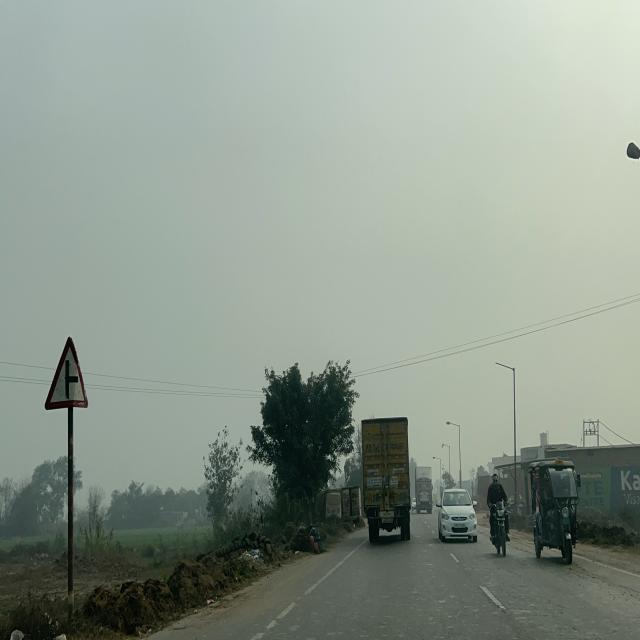SIDE_ROAD_RIGHT: (44, 335, 89, 411)
